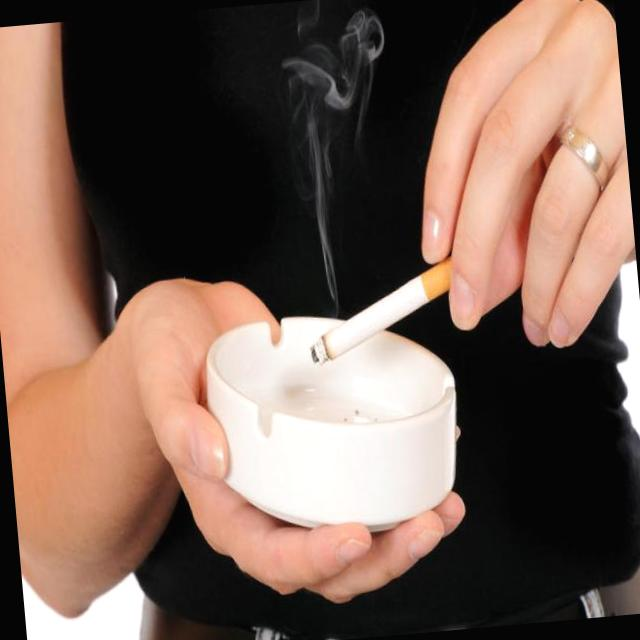smoke: (298, 239, 469, 376)
